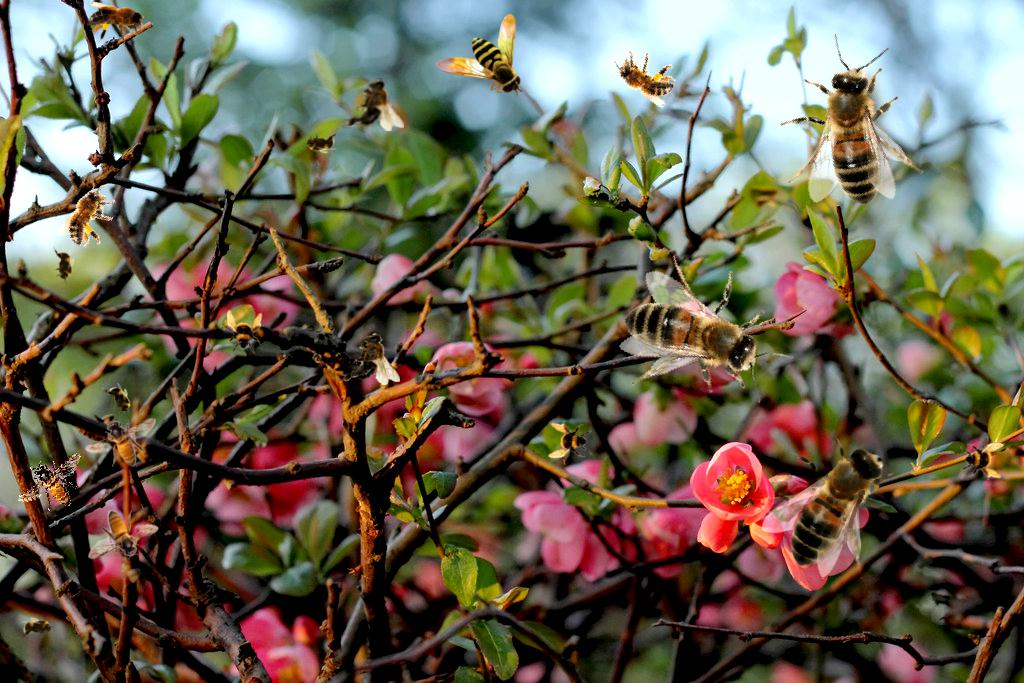Bee: (733, 13, 966, 245), (597, 229, 804, 439), (752, 417, 919, 579), (435, 14, 523, 96), (603, 41, 683, 110), (10, 451, 92, 518), (56, 175, 124, 254), (85, 417, 156, 467), (88, 510, 159, 560), (342, 78, 404, 131), (338, 332, 400, 385), (87, 0, 153, 45), (220, 310, 264, 354), (960, 436, 1004, 480), (548, 421, 592, 465), (100, 377, 140, 423), (18, 617, 58, 639), (300, 132, 340, 154), (53, 246, 75, 286)
